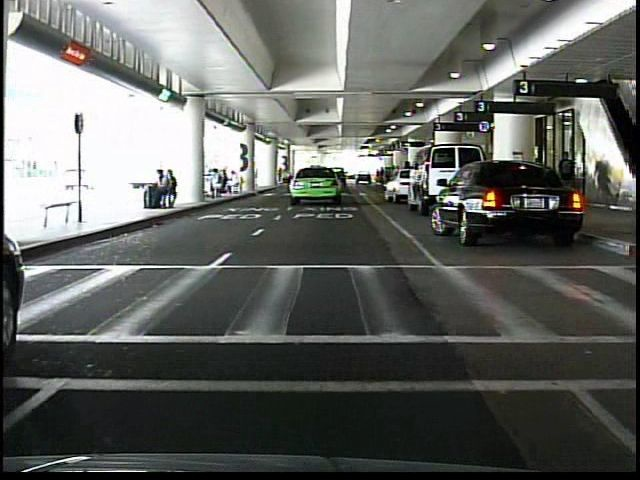person: (556, 149, 579, 209)
